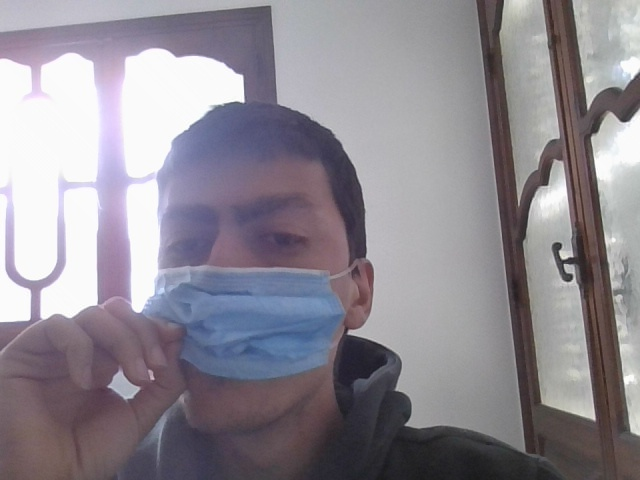mask_weared_incorrect: (133, 112, 363, 423)
